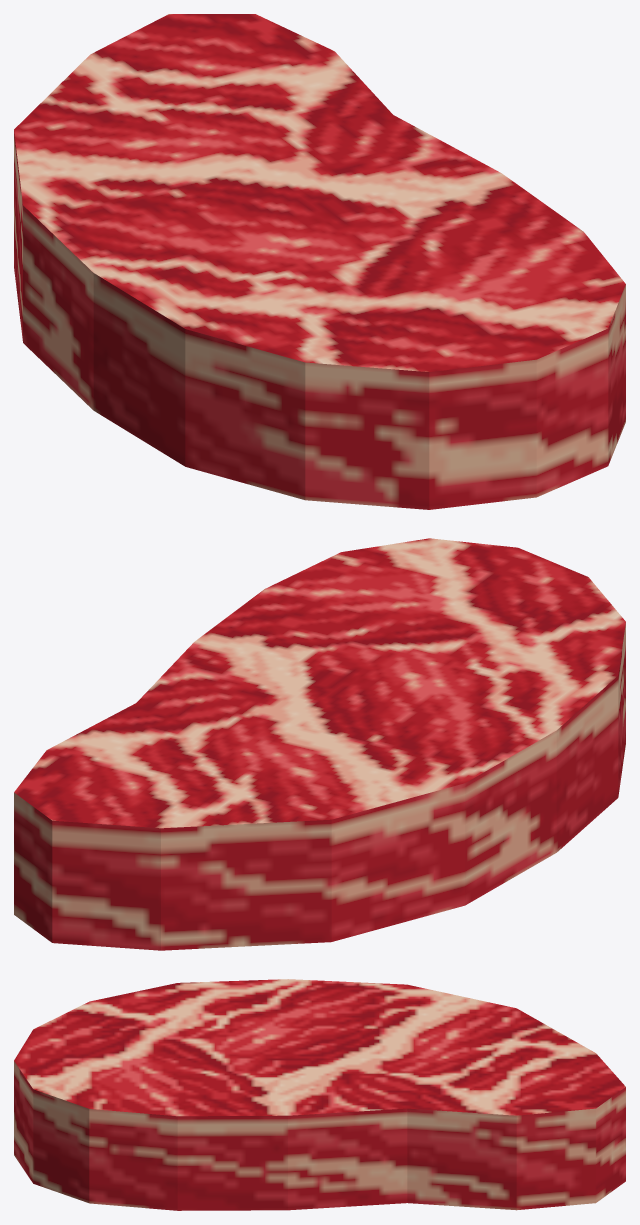
Rendered from rawsteak.fbx.
3 views of the same model, one above another, from view 1: azimuth 30°, elevation 25°; view 2: azimuth 150°, elevation 25°; view 3: azimuth 270°, elevation 25° (orthographic). The views are drawn at different scales.
Parts seen in each view (by area): view 1: Cylinder.005; view 2: Cylinder.005; view 3: Cylinder.005.
Part boxes in pixels (x1,y1,x2,y2): Cylinder.005: (14, 14, 625, 509); Cylinder.005: (14, 538, 625, 950); Cylinder.005: (14, 979, 625, 1210).
Bounding box in the file's own units: 160 × 51.35 × 301.
